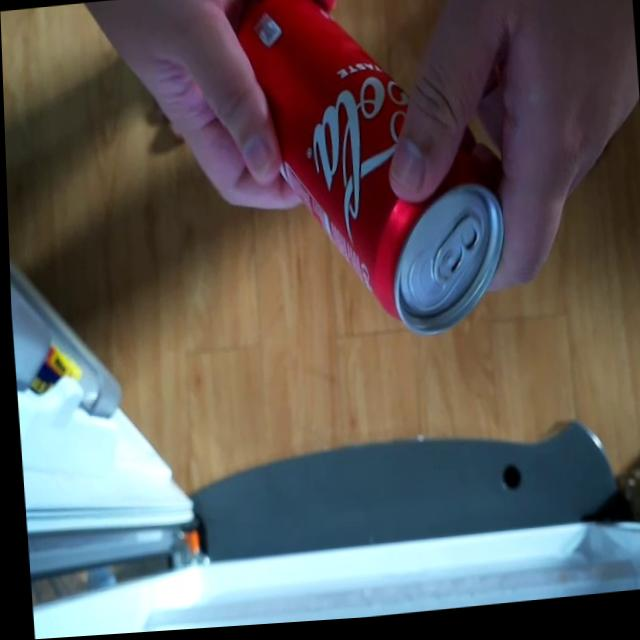coke: (224, 0, 510, 363)
